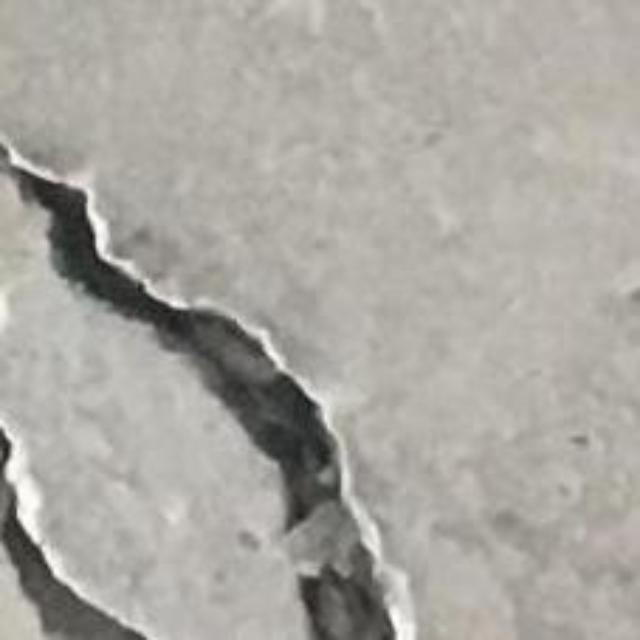crack: (9, 170, 397, 639)
